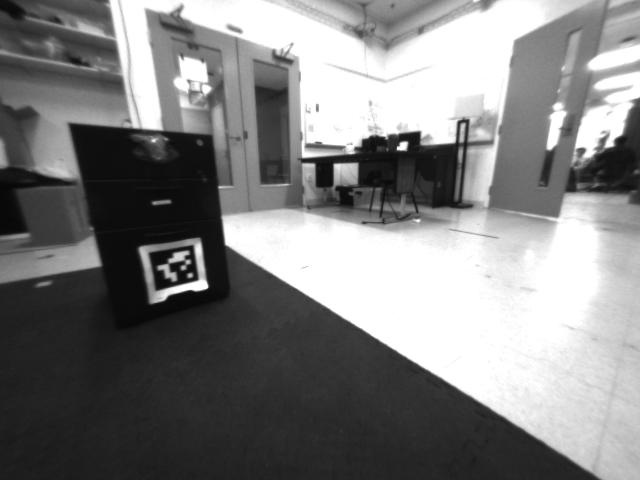door_handle: (226, 133, 244, 147)
drawer: (119, 130, 184, 172)
